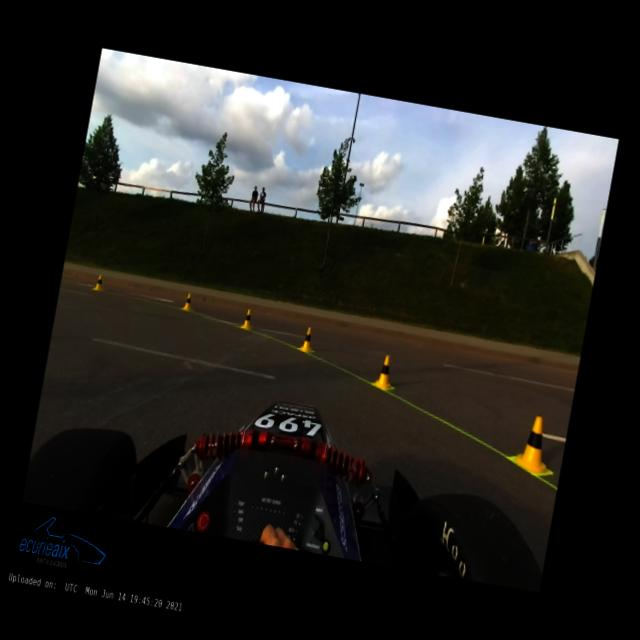yellow_cone: (511, 412, 558, 476), (372, 354, 397, 391), (298, 326, 316, 352), (240, 308, 253, 330), (92, 274, 104, 291), (182, 292, 193, 310)
